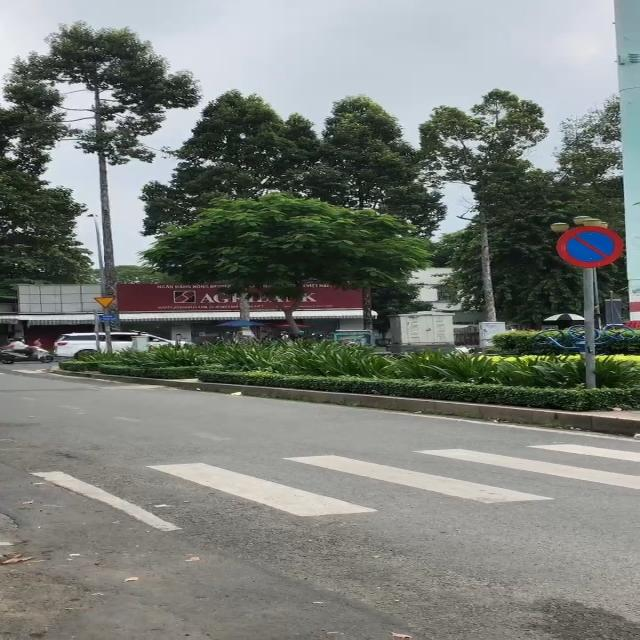Bien bao cam do xe: (552, 224, 628, 268)
Bien bao giao nhau voi duong uu tien: (90, 296, 118, 309)
